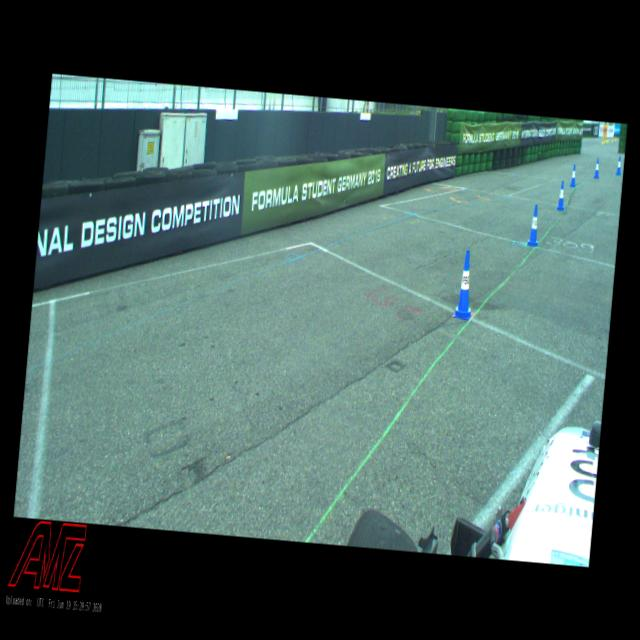blue_cone: (453, 249, 477, 320), (526, 204, 540, 247), (556, 180, 566, 210), (570, 164, 576, 186), (594, 158, 600, 178), (616, 155, 622, 175)
